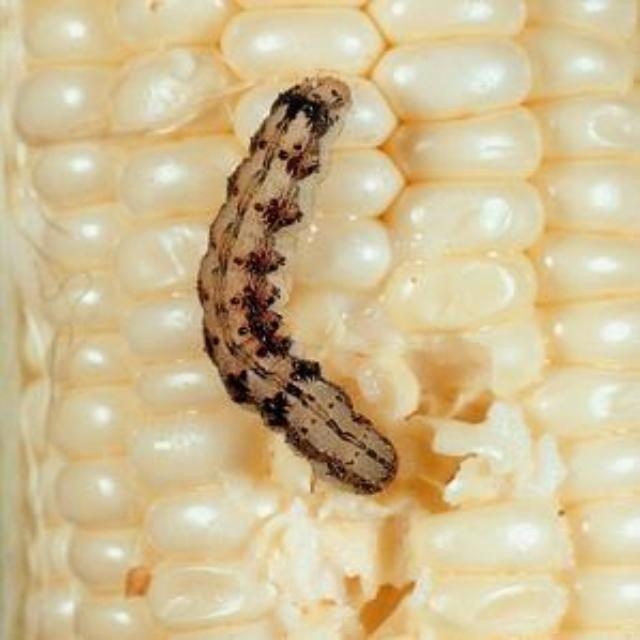Cotton bollworm: (184, 68, 412, 506)
